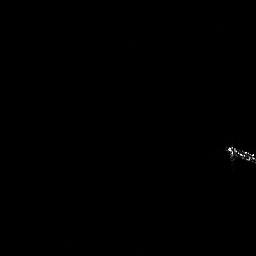ship: (223, 141, 256, 168)
